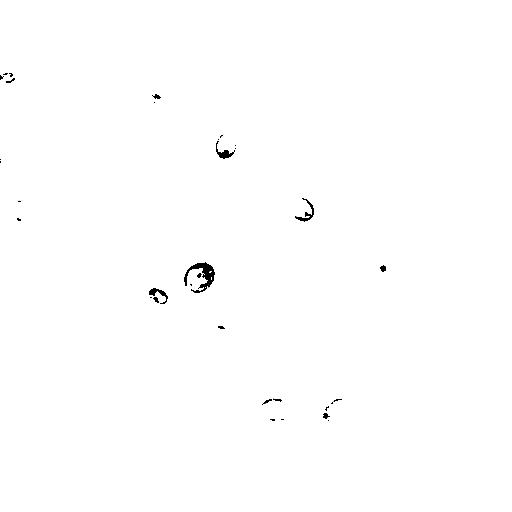micro-algae: (0, 148, 37, 215), (113, 185, 155, 227), (363, 249, 403, 288), (183, 259, 216, 296), (256, 397, 295, 425), (5, 196, 39, 228), (320, 397, 353, 424), (286, 195, 317, 223), (494, 380, 511, 425), (214, 131, 239, 160), (148, 286, 169, 305), (211, 203, 229, 223), (2, 70, 15, 84)
